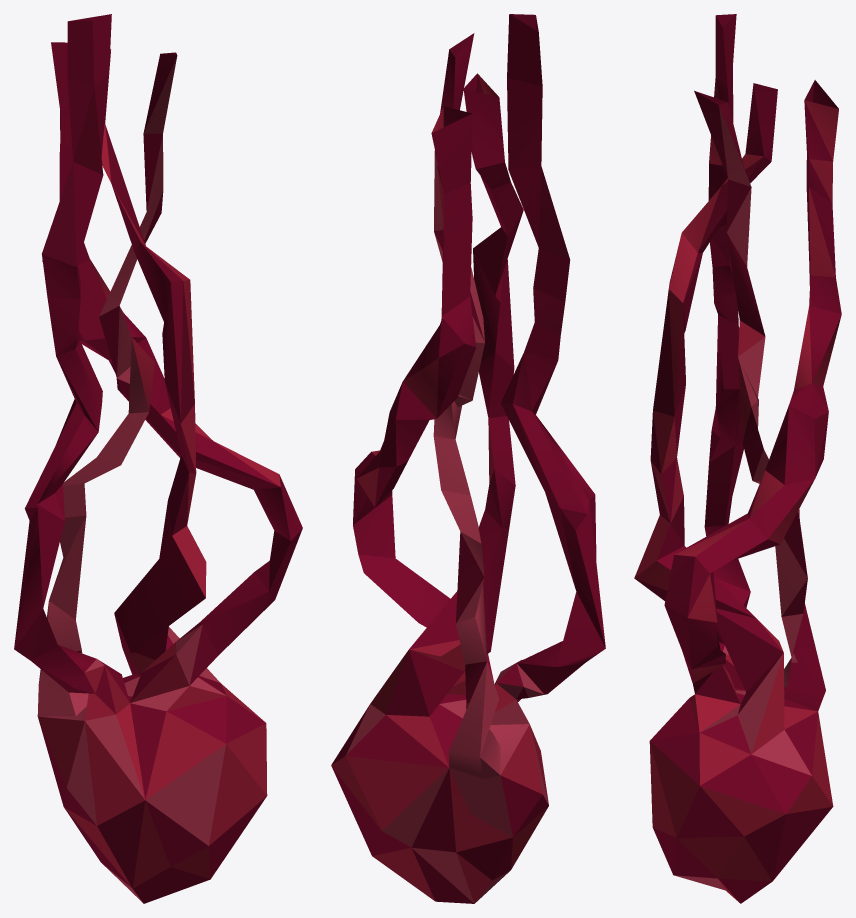
Rendered from Heart_LongValves.fbx.
3 renders of one model, left to right at view 1: azimuth 30°, elevation 25°; view 2: azimuth 150°, elevation 25°; view 3: azimuth 270°, elevation 25°, orthographic. The views are drawn at different scales.
Visible parts, largest first — view 1: geo_heart2; view 2: geo_heart2; view 3: geo_heart2.
Part boxes in pixels (box(x1,y1,x2,y2)): geo_heart2: box(14, 14, 302, 903); geo_heart2: box(331, 14, 605, 903); geo_heart2: box(634, 14, 841, 903).
Size of the model in its own units: 140 by 446 by 98.92.
